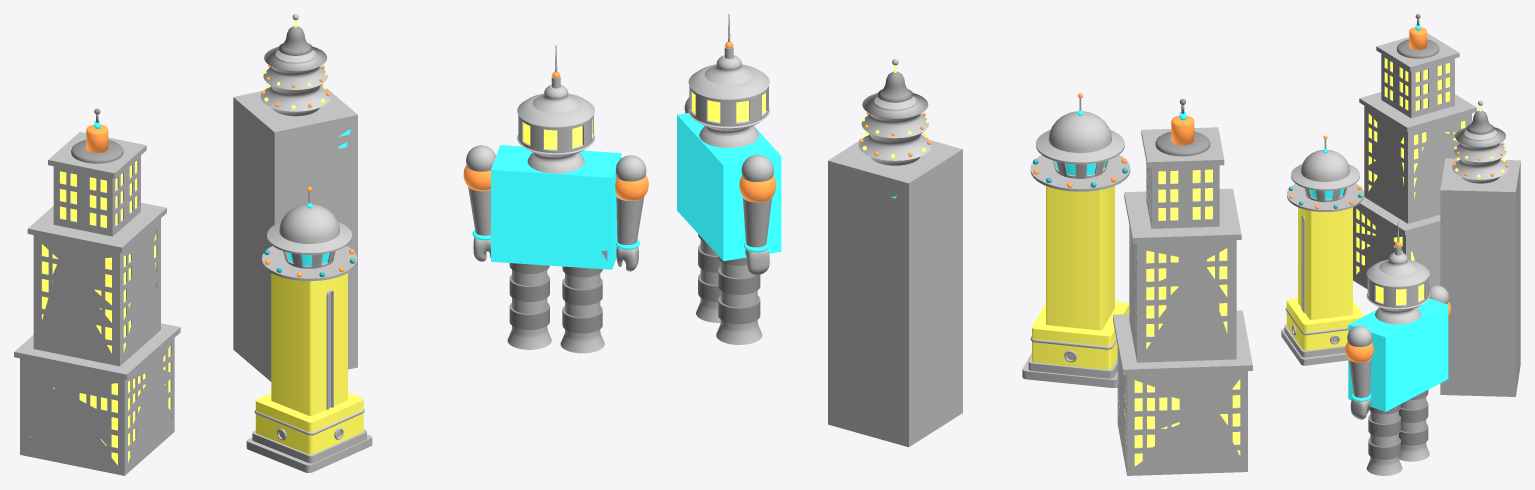
The model's file is Buildings.fbx.
The picture shows the model from 3 angles, left to right: view 1: azimuth 30°, elevation 25°; view 2: azimuth 150°, elevation 25°; view 3: azimuth 270°, elevation 25°; orthographic projection. The views are drawn at different scales.
Visible parts, largest first — view 1: Circle.022, Circle.015, Circle.018, Cube.001; view 2: Circle.018, Circle.022, Circle.015, Cube.001; view 3: Circle.018, Circle.022, Circle.015, Cube.001.
Part boxes in pixels (x1,y1,x2,y2): Circle.022: (14,108,180,475); Circle.015: (463,45,648,353); Circle.018: (233,14,357,381); Cube.001: (246,186,372,472); Circle.018: (828,59,962,447); Circle.022: (1113,99,1252,475); Circle.015: (677,14,781,344); Cube.001: (1022,93,1130,387); Circle.018: (1440,100,1520,396); Circle.022: (1353,14,1476,288); Circle.015: (1345,220,1450,475); Cube.001: (1281,135,1363,365).
Size of the model in its own units: 2885 by 1614 by 1254.
